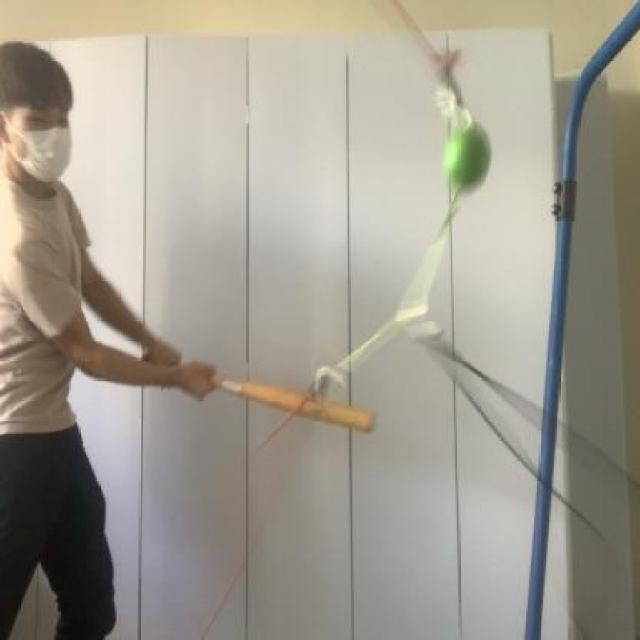baseball: (436, 112, 506, 205)
